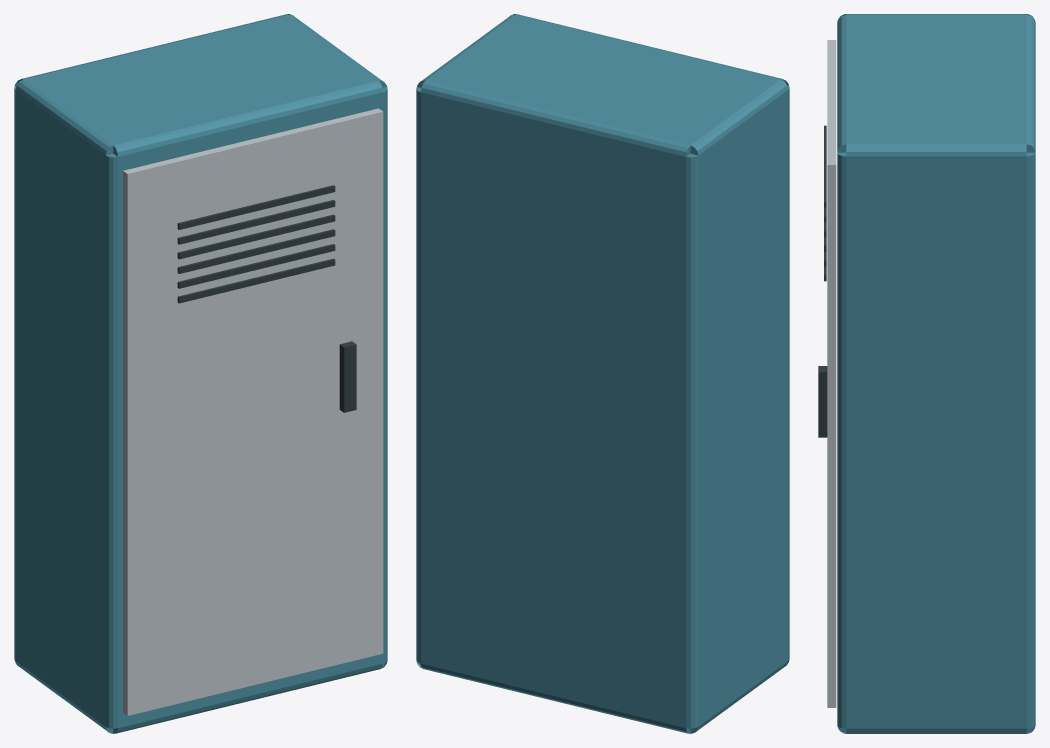
Rendered from basketball-club-and-street-courts-equipment-locker-32c062f7__28558.glb.
3 views of the same model, side by side, from view 1: azimuth 30°, elevation 25°; view 2: azimuth 150°, elevation 25°; view 3: azimuth 270°, elevation 25° (orthographic).
Visible parts, largest first — view 1: equipment-locker; view 2: equipment-locker; view 3: equipment-locker.
Part boxes in pixels (x1,y1,x2,y2): equipment-locker: (14, 14, 387, 733); equipment-locker: (416, 14, 789, 733); equipment-locker: (818, 14, 1035, 733).
Size of the model in its own units: 0.9001 by 1.8 by 0.6025.
